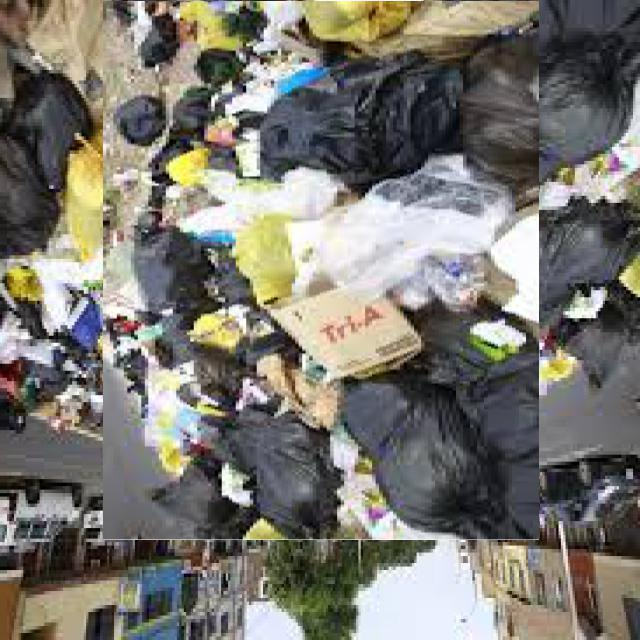Trashbag: (335, 373, 502, 530), (260, 48, 452, 179), (438, 46, 540, 185), (242, 413, 329, 543), (127, 215, 201, 318), (150, 456, 220, 532), (115, 84, 168, 147)
